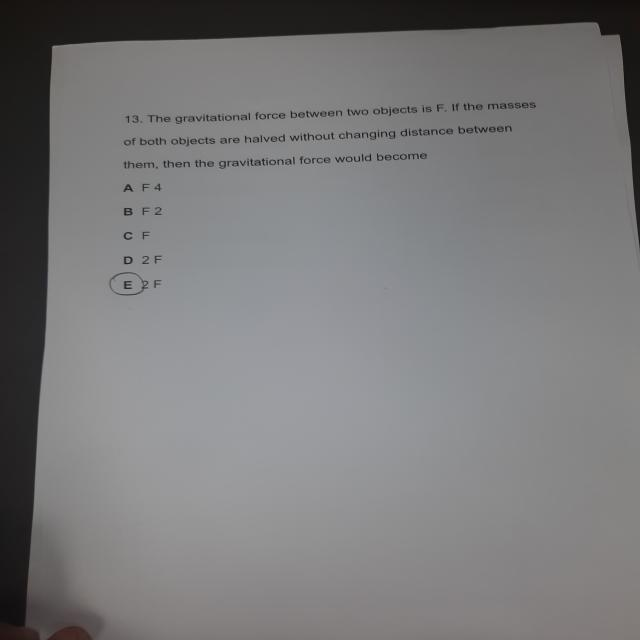E: (110, 272, 147, 298)
